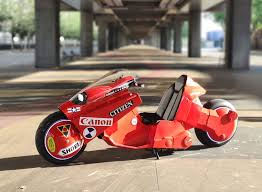motorcycle: (35, 70, 238, 165)
